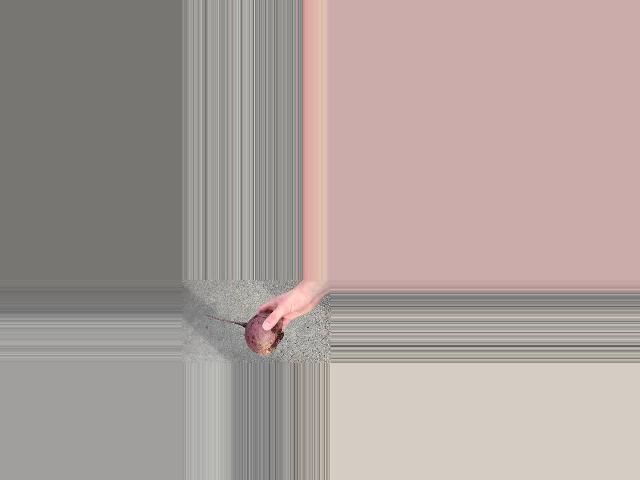beet: (206, 313, 283, 355)
